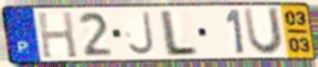1: (224, 8, 247, 56)
2: (77, 10, 115, 58)
H: (35, 10, 80, 60)
J: (126, 10, 157, 58)
L: (160, 8, 199, 58)
U: (241, 6, 285, 57)
